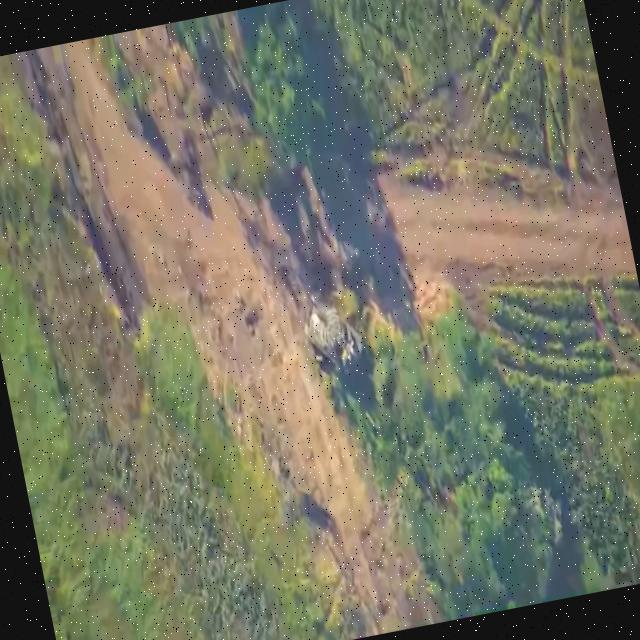MBT: (300, 288, 377, 395)
